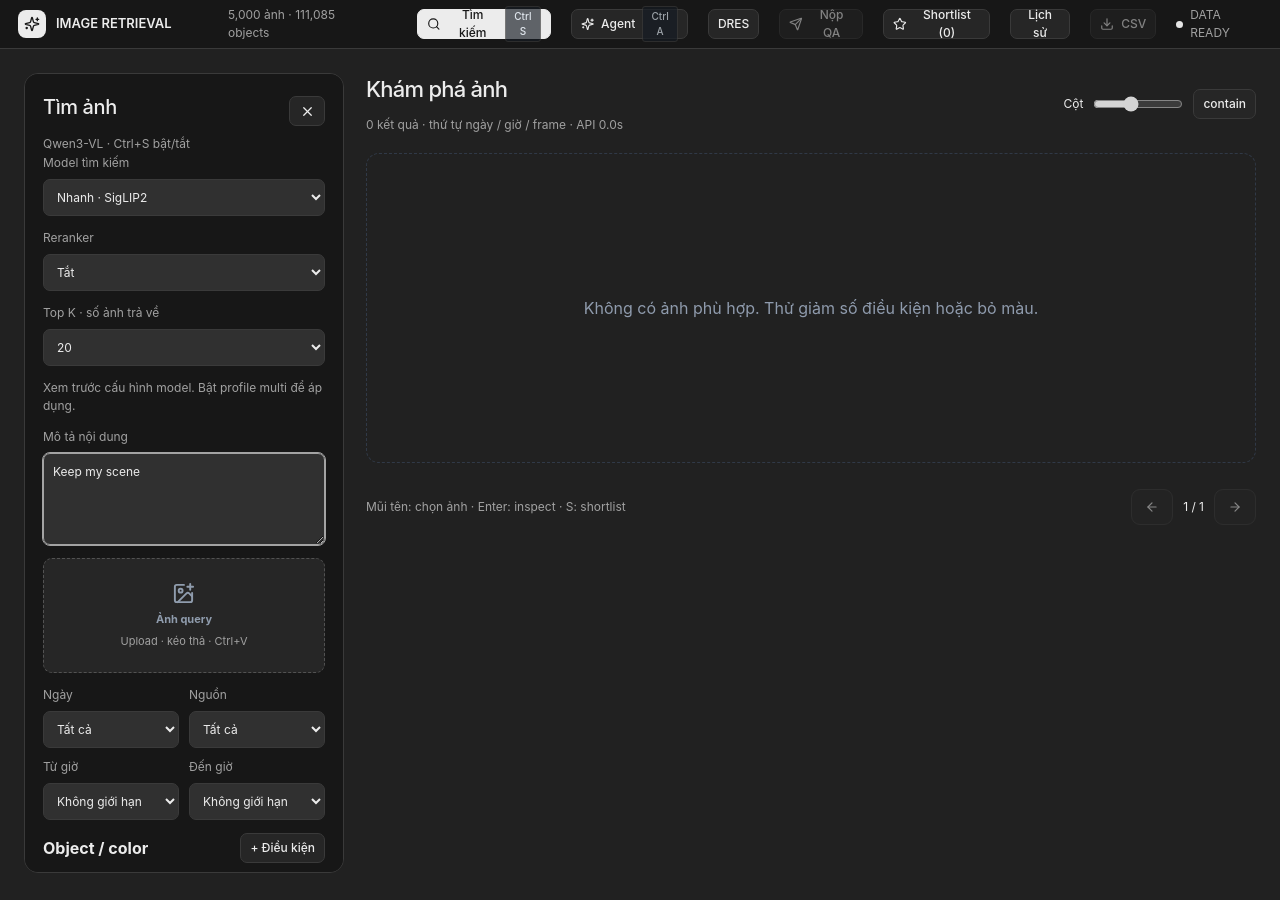
Test: image workbench entry and shortcuts › toggles independent search and chat panels even from a focused input
This screenshot has width=1280, height=900.
Earlier steps of the test are not shown.
Press s in the text box labelled "Mô tả nội dung", box [43, 453, 325, 545]
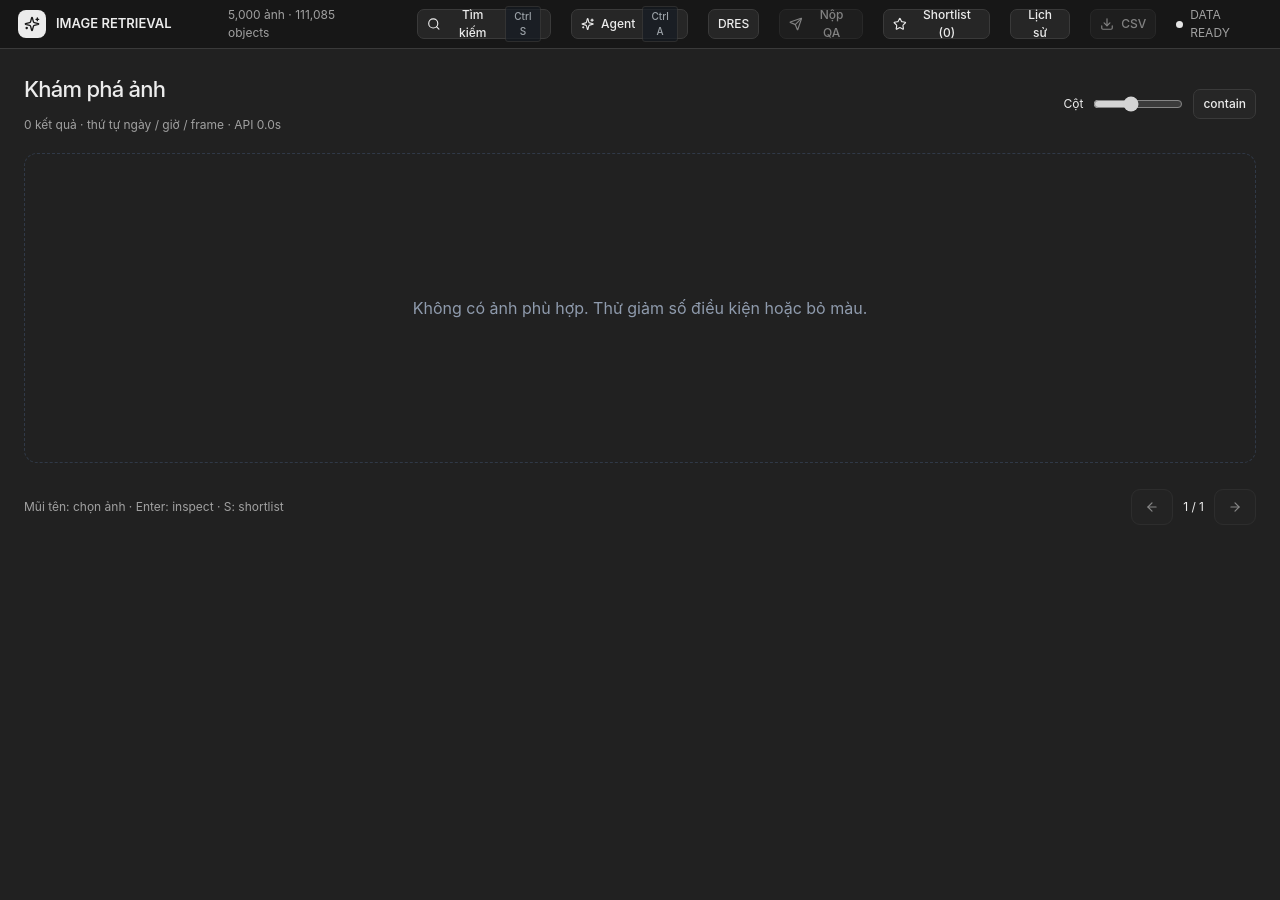
Check: the label labelled "Mô tả nội dung" is gone
Press a
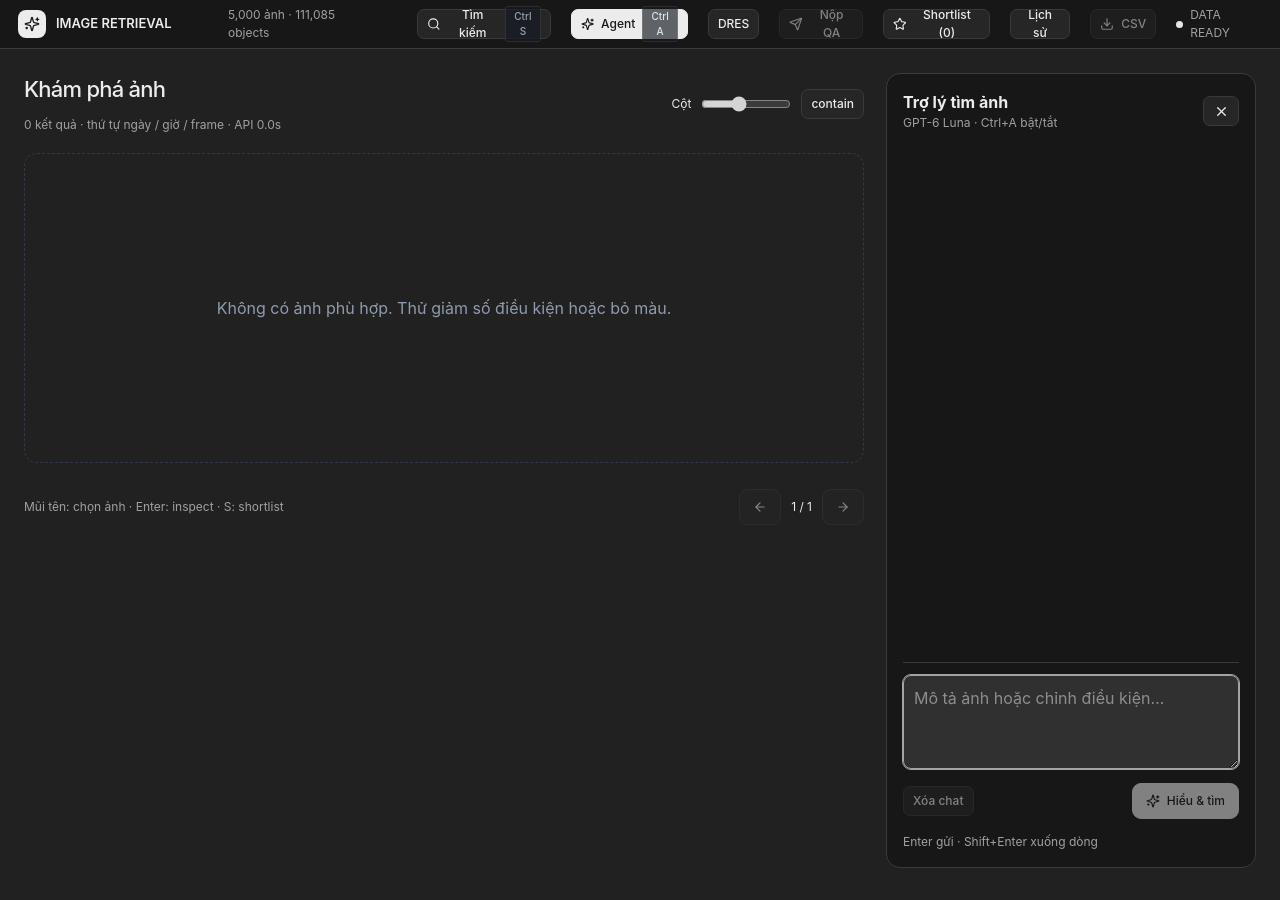
Type "đúng 2 người" into the text box named "Yêu cầu agent" at (1071, 722), box [903, 675, 1239, 769]
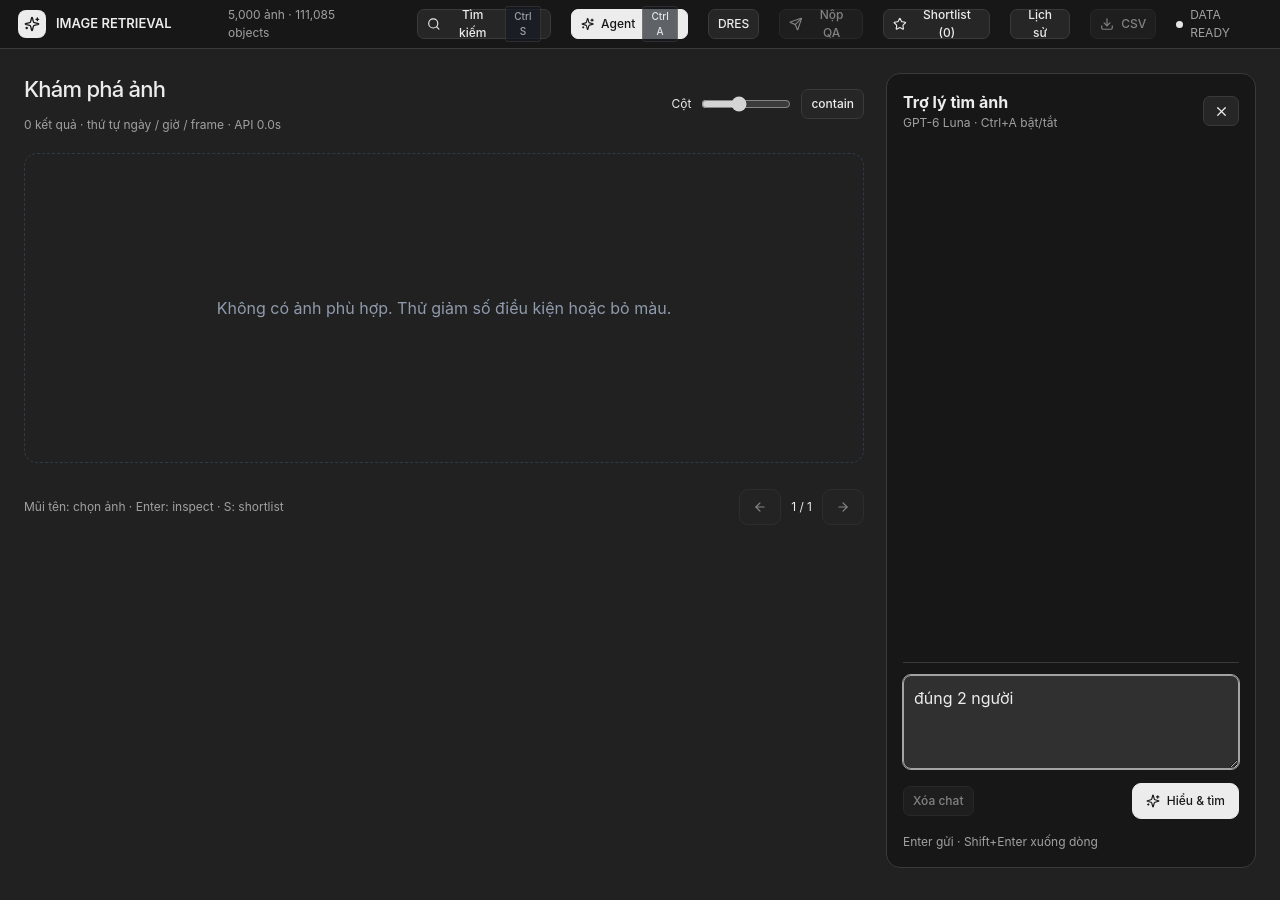
Press a in the text box named "Yêu cầu agent", box [903, 675, 1239, 769]
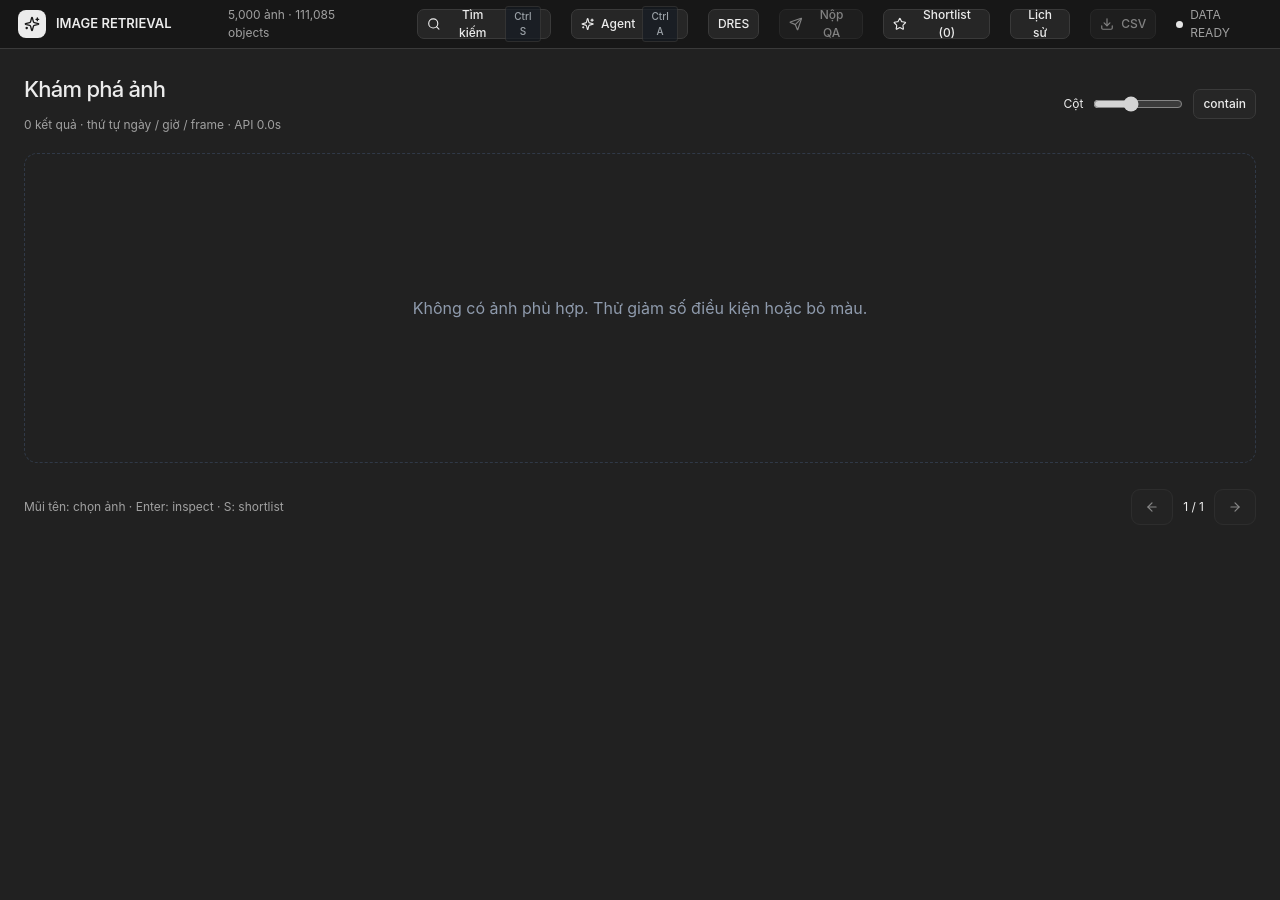
Press a
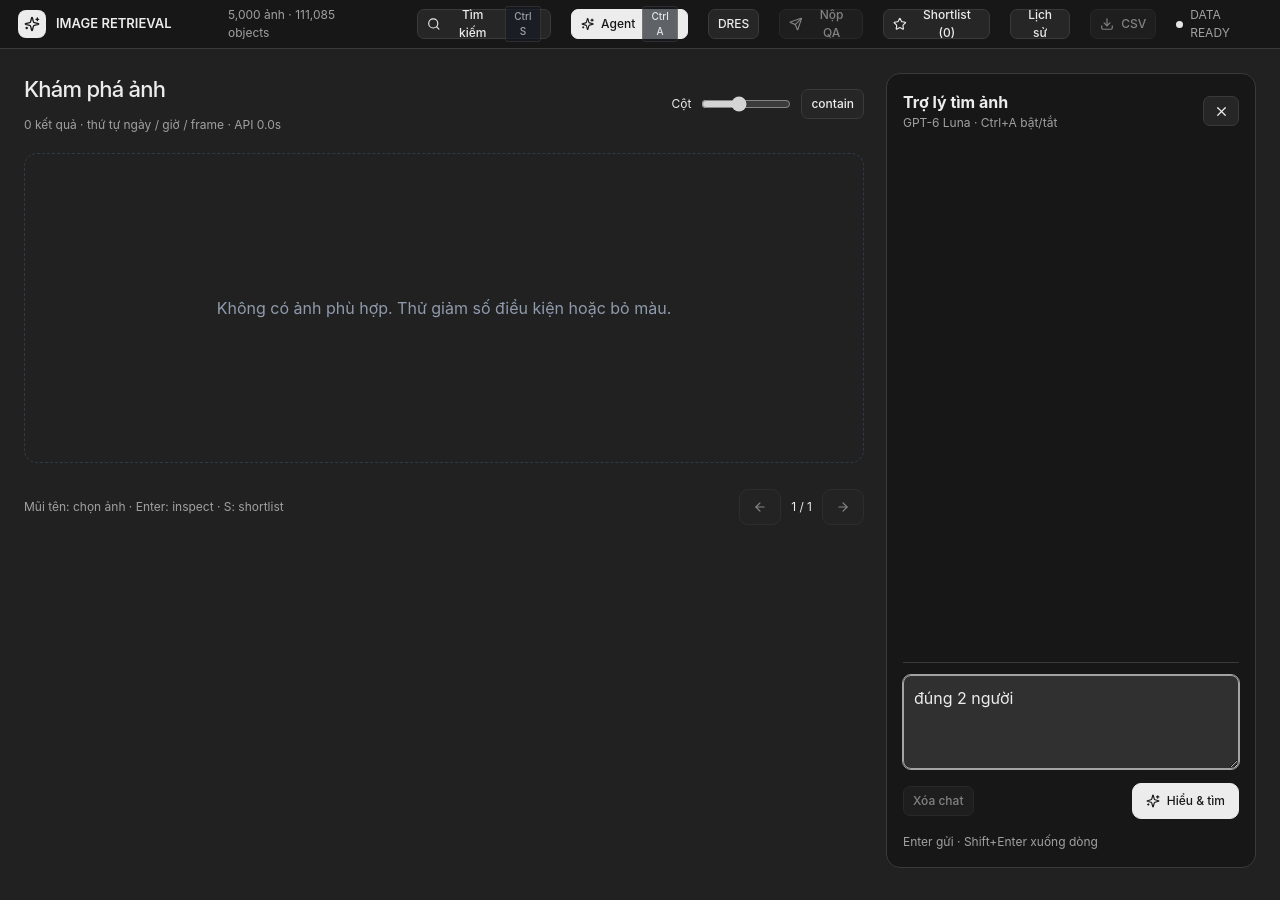
Check: the text box named "Yêu cầu agent" holds "đúng 2 người", box [903, 675, 1239, 769]
Press s
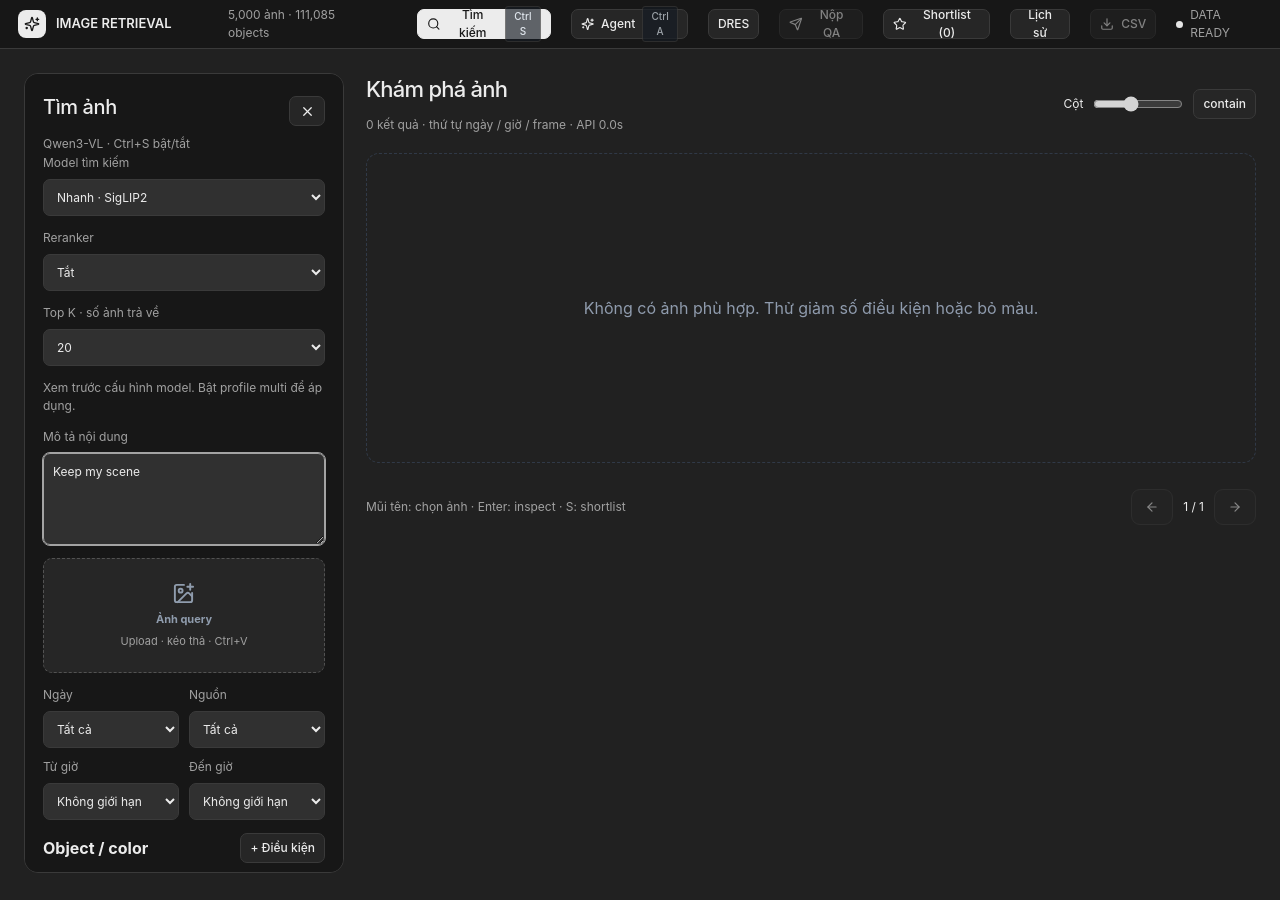
Check: the text box labelled "Mô tả nội dung" holds "Keep my scene", box [43, 453, 325, 545]
